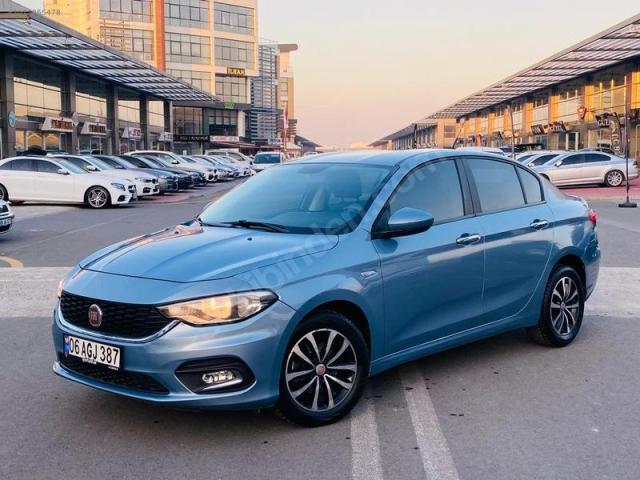plaka: (66, 336, 120, 370)
